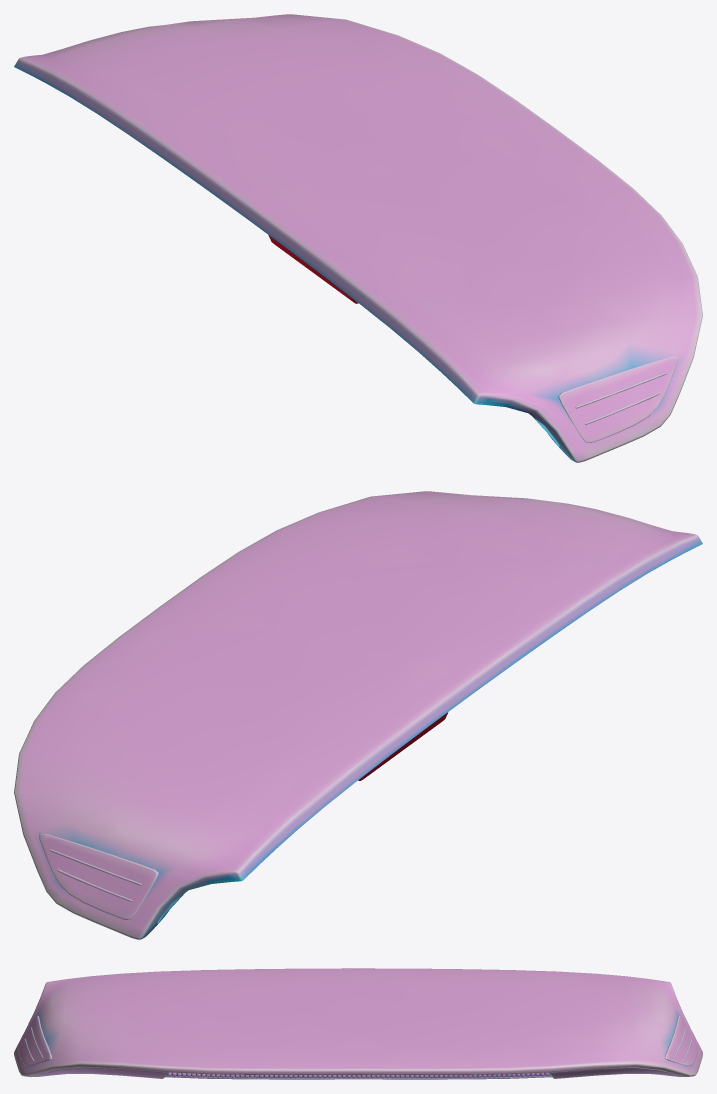
Rendered from spoiler.glb.
3 renders of one model, top to bottom at view 1: azimuth 30°, elevation 25°; view 2: azimuth 150°, elevation 25°; view 3: azimuth 270°, elevation 25°, orthographic. The views are drawn at different scales.
Visible parts, largest first — view 1: carpaint_6, carpaint_7; view 2: carpaint_6, carpaint_7; view 3: carpaint_6, chrome_4, carpaint_7, clearglass_33.
Part boxes in pixels (x1,y1,x2,y2): carpaint_6: (14,14,702,462); carpaint_7: (558,356,678,442); carpaint_6: (14,491,702,939); carpaint_7: (38,833,158,919); carpaint_6: (14,968,702,1079); chrome_4: (33,1067,683,1078); carpaint_7: (19,1015,697,1065); clearglass_33: (167,1072,548,1078).
Size of the model in its own units: 0.4567 by 0.1344 by 1.28.
